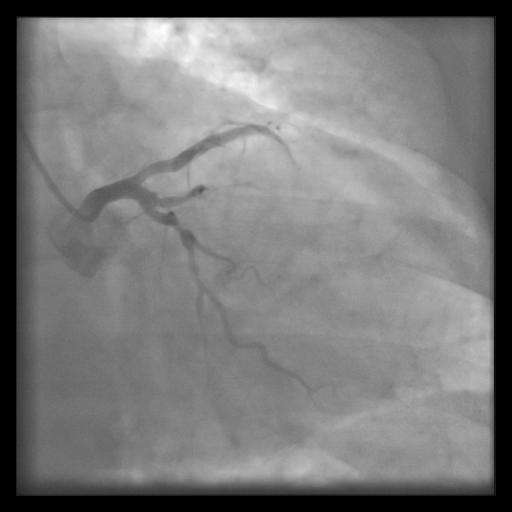Stenosis: (166, 213, 193, 242)
